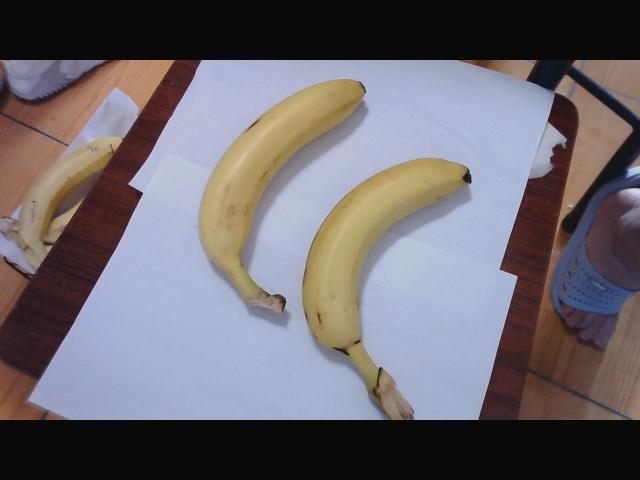banana: (306, 129, 456, 420), (193, 65, 302, 326), (18, 131, 121, 253)
